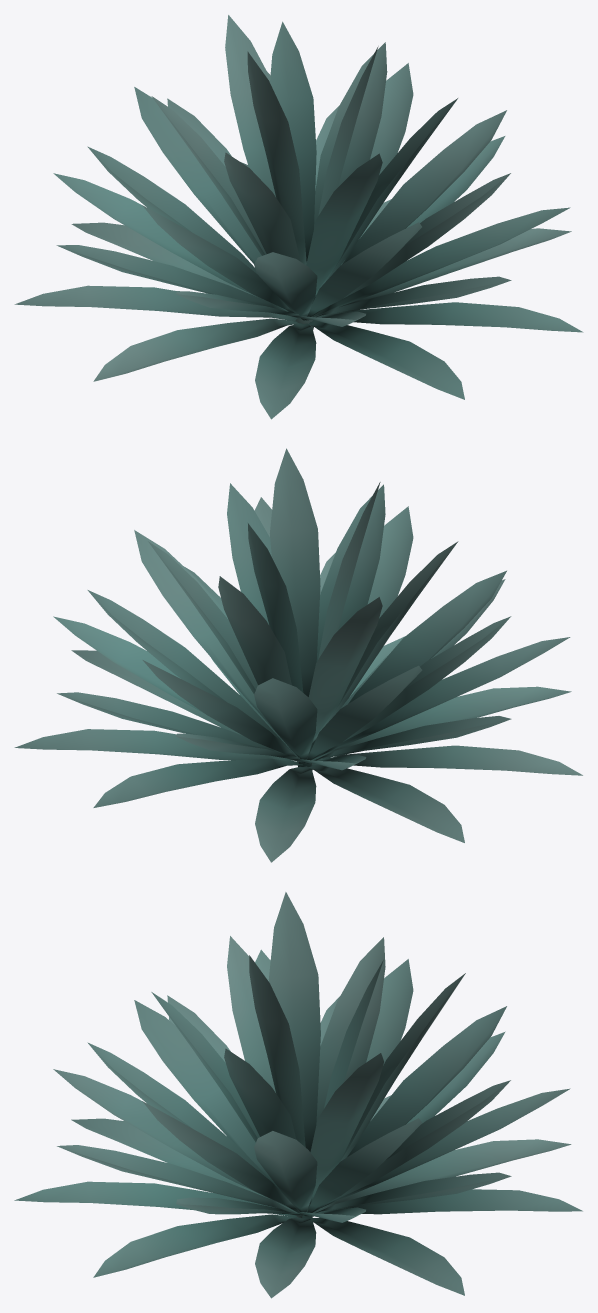
The model's file is plants-cacti-succulents-agave_v6.fbx.
3 views of the same model, one above another, from view 1: azimuth 30°, elevation 25°; view 2: azimuth 150°, elevation 25°; view 3: azimuth 270°, elevation 25° (orthographic).
Visible parts, largest first — view 1: Agave_v6; view 2: Agave_v6; view 3: Agave_v6.
Boxes of the visible parts, <box> form: Agave_v6: <box>14,15,583,419</box>; Agave_v6: <box>14,448,582,862</box>; Agave_v6: <box>14,892,582,1298</box>.
Bounding box in the file's own units: 1.2 × 0.7603 × 1.19.
